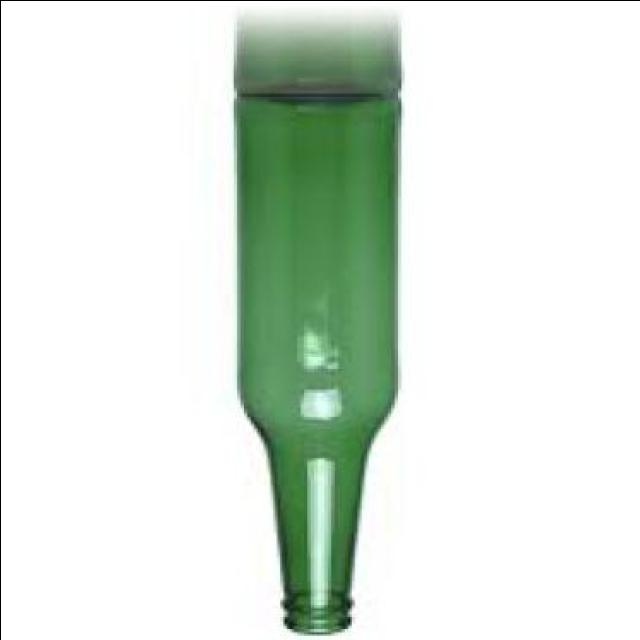kaca: (236, 89, 401, 637)
